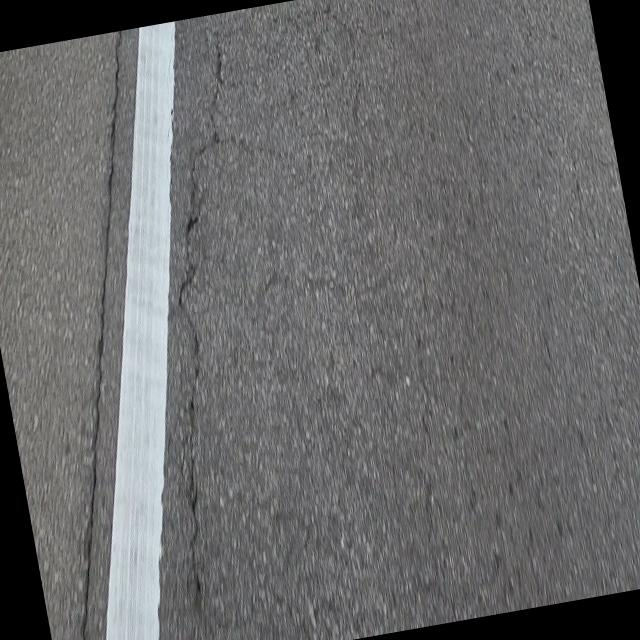Retak-Memanjang: (78, 29, 125, 640), (176, 45, 223, 593)
